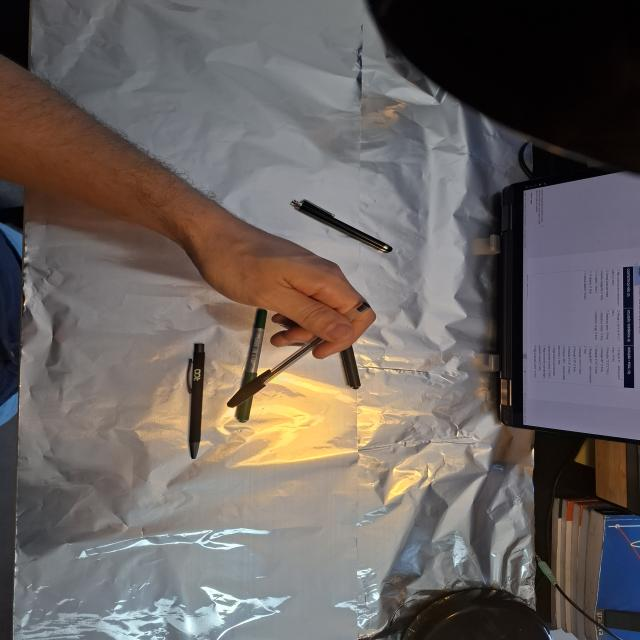glove_off: (178, 207, 380, 358)
